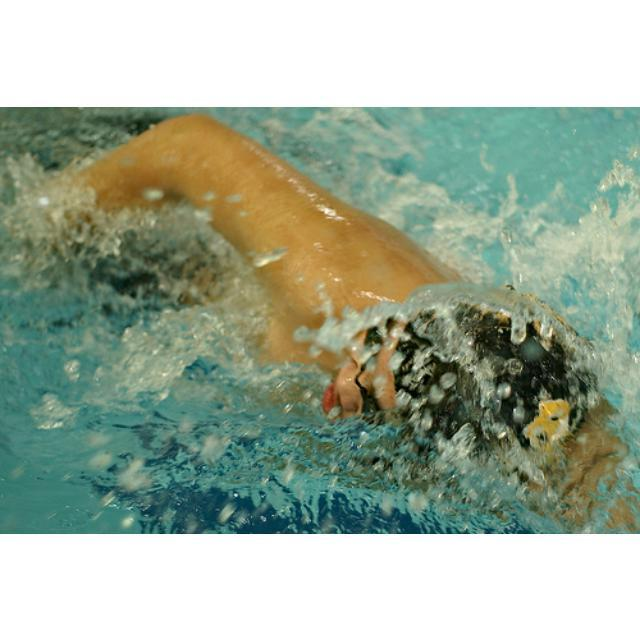human: (49, 112, 639, 533)
